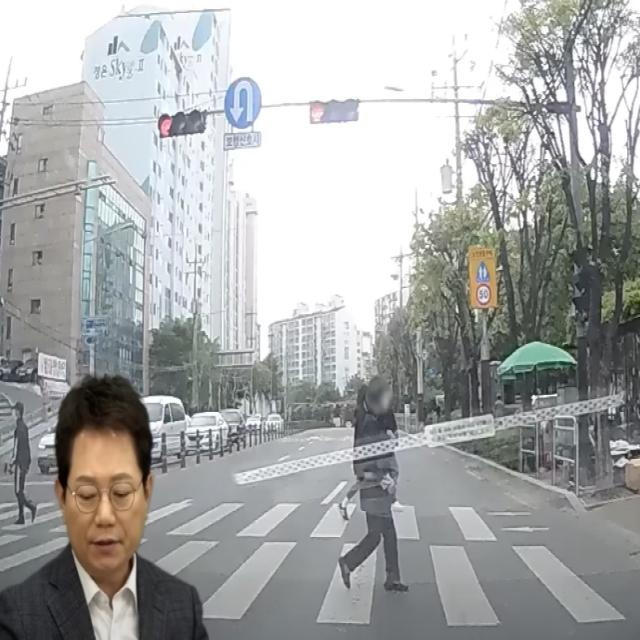Red Light: (156, 110, 175, 139), (306, 97, 326, 124)
